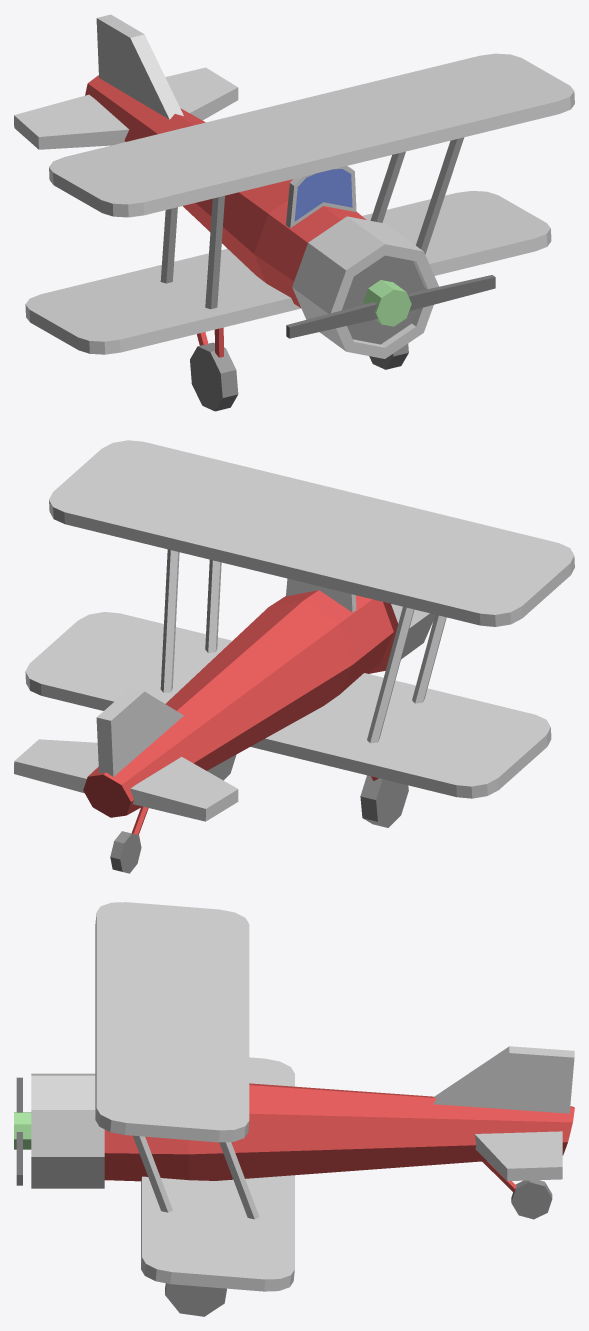
File: char_0.fbx
3 views of the same model, one above another, from view 1: azimuth 30°, elevation 25°; view 2: azimuth 150°, elevation 25°; view 3: azimuth 270°, elevation 25° (orthographic). The views are drawn at different scales.
Visible parts, largest first — view 1: char_0; view 2: char_0; view 3: char_0.
Boxes of the visible parts, <box> form: char_0: <box>14,14,574,411</box>; char_0: <box>14,440,574,873</box>; char_0: <box>14,902,574,1316</box>.
Bounding box in the file's own units: 222 × 123 × 239.
